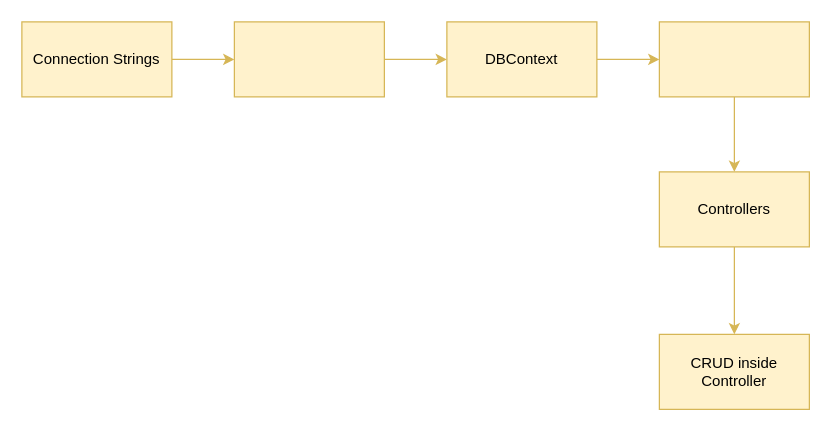
The diagram is 831 pixels wide and 431 high, and some of its shapes have lost their labels. The shapes that lost their labels are listed below. From the top down, each one's centre as x and y in pixels, then its label:
the point at 308,59: Models
the point at 733,59: Migrate Data to DB
